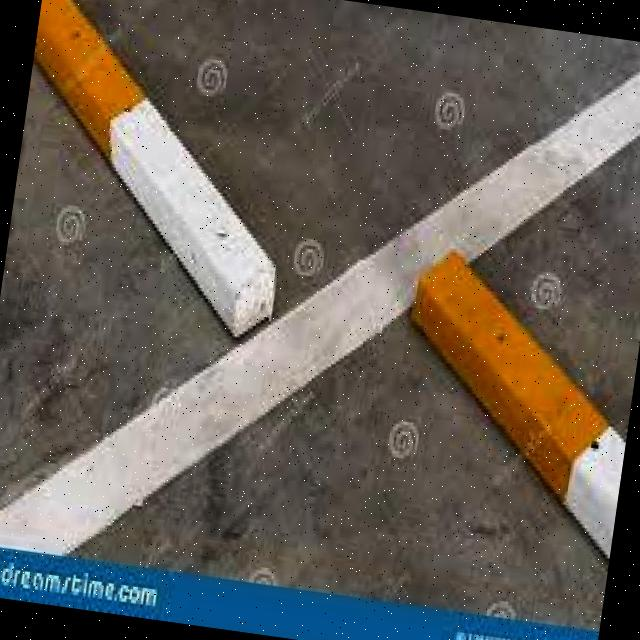curb: (5, 1, 318, 336), (389, 245, 640, 541)
